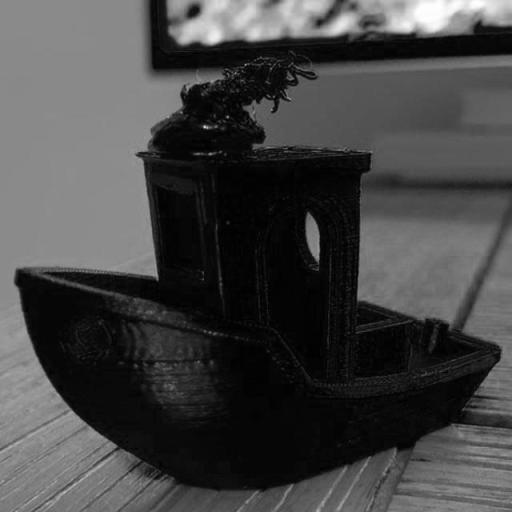spaghetti_and_stringing: (220, 49, 320, 115)
